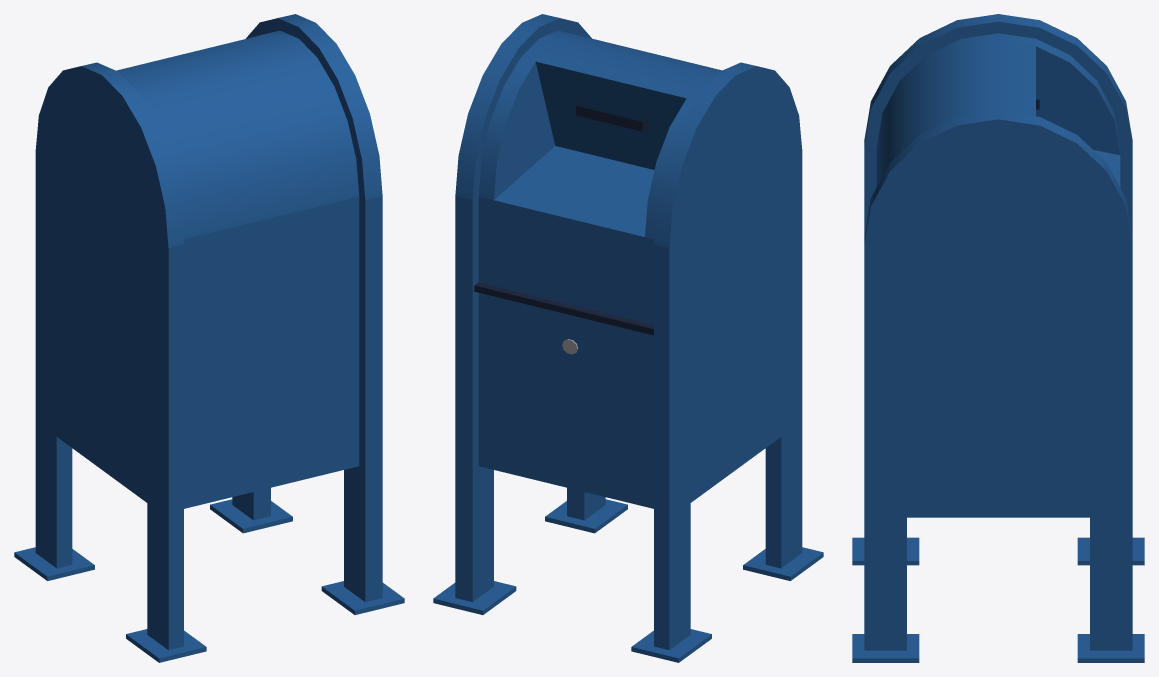
Rendered from postbox.fbx.
3 renders of one model, left to right at view 1: azimuth 30°, elevation 25°; view 2: azimuth 150°, elevation 25°; view 3: azimuth 270°, elevation 25°, orthographic.
Visible parts, largest first — view 1: polySurface32; view 2: polySurface32; view 3: polySurface32.
Part boxes in pixels (left/top/right/bottom): polySurface32: left=14, top=14, right=404, bottom=662; polySurface32: left=433, top=14, right=823, bottom=662; polySurface32: left=852, top=14, right=1144, bottom=662.
Size of the model in its own units: 2.01 by 4.15 by 2.05.
